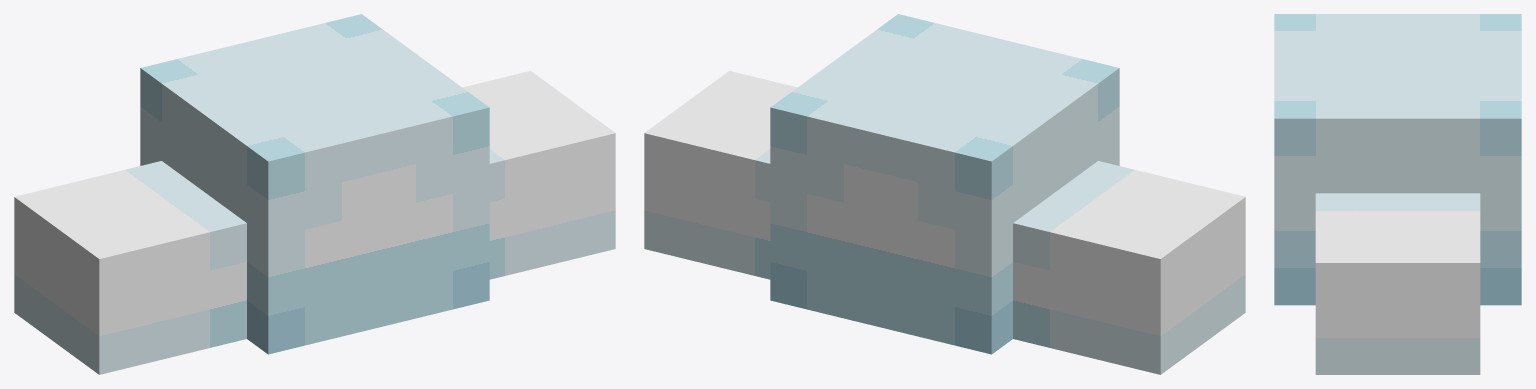
File: small-cloud.gltf
3 views of the same model, side by side, from view 1: azimuth 30°, elevation 25°; view 2: azimuth 150°, elevation 25°; view 3: azimuth 270°, elevation 25° (orthographic). The views are drawn at different scales.
Visible parts, largest first — view 1: cube (×3); view 2: cube (×3); view 3: cube (×2).
Part boxes in pixels (x1,y1,x2,y2): cube (×3): (14, 14, 615, 374); cube (×3): (644, 14, 1245, 374); cube (×2): (1274, 14, 1521, 374).
Size of the model in its own units: 0.875 by 0.3125 by 0.375.
1 material, 1 textured.
